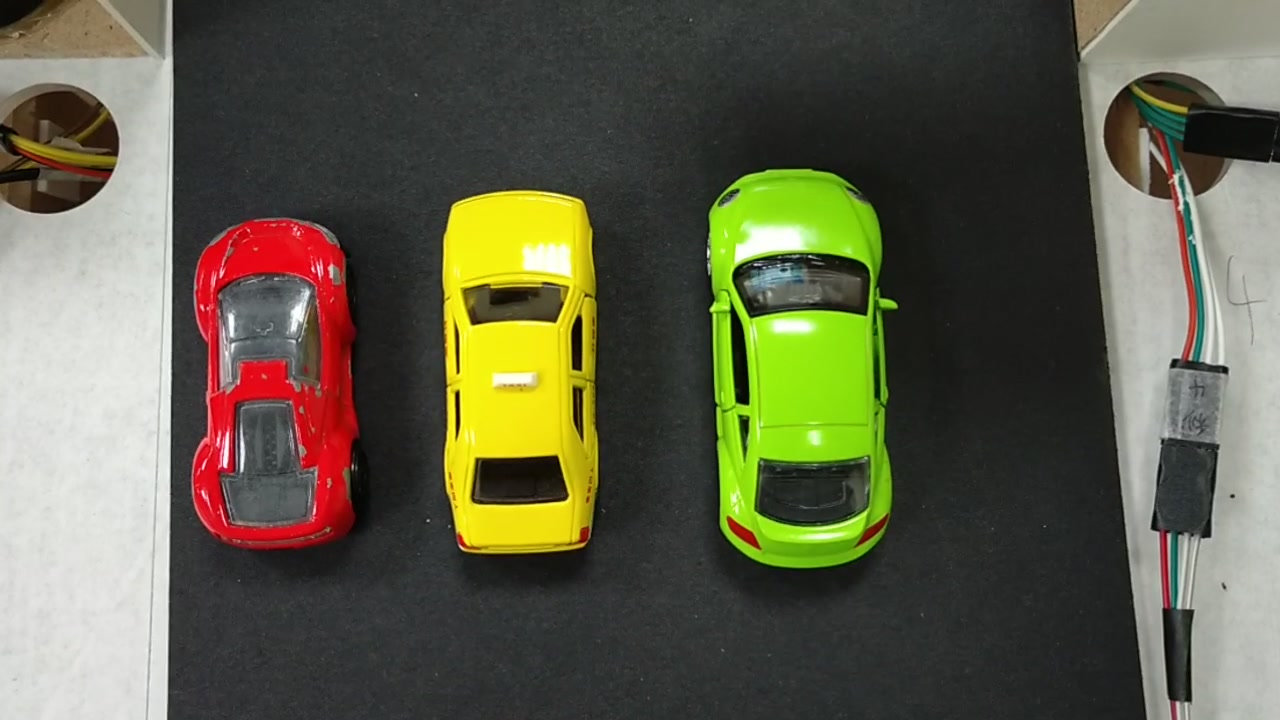car: (714, 180, 894, 560), (445, 195, 605, 556), (197, 229, 358, 544)
